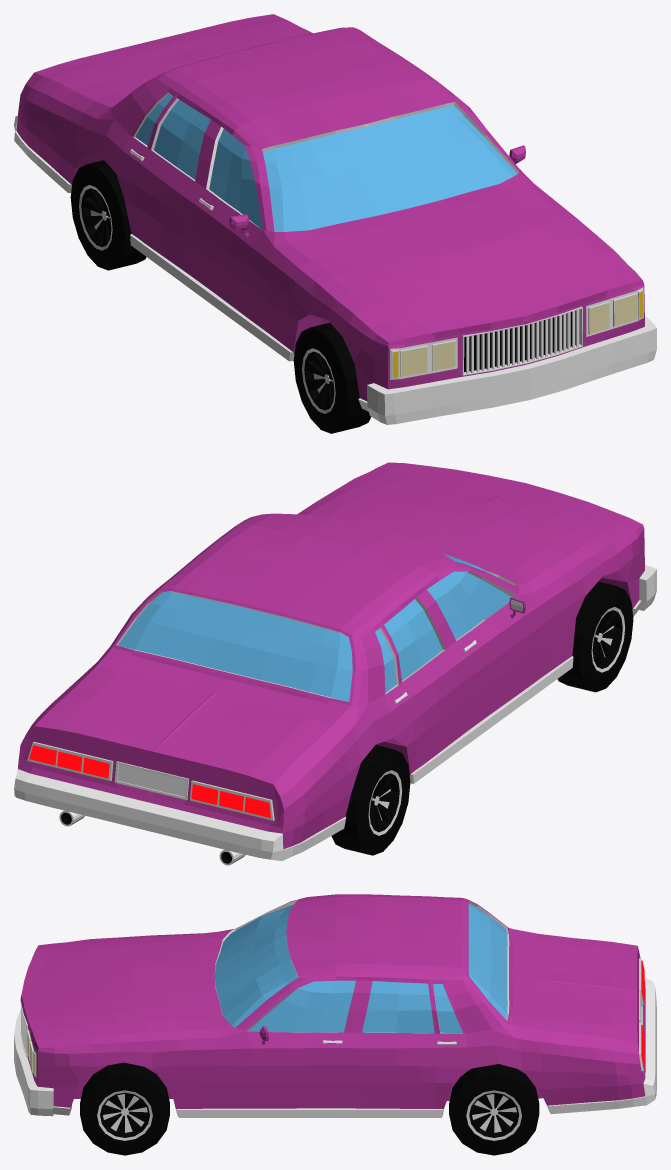
File: ClassicCar.fbx
3 views of the same model, one above another, from view 1: azimuth 30°, elevation 25°; view 2: azimuth 150°, elevation 25°; view 3: azimuth 270°, elevation 25° (orthographic). The views are drawn at different scales.
Parts seen in each view (by area): view 1: Car, WheelFR, WheelBR; view 2: Car, WheelBR, WheelFR; view 3: Car, WheelFL, WheelBL.
Part boxes in pixels (x1,y1,x2,y2): Car: (14, 14, 656, 424); WheelFR: (293, 322, 370, 433); WheelBR: (70, 160, 146, 270); Car: (14, 462, 656, 865); WheelBR: (331, 745, 410, 855); WheelFR: (557, 581, 633, 692); Car: (14, 894, 656, 1117); WheelFL: (80, 1062, 169, 1155); WheelBL: (449, 1064, 539, 1155).
Size of the model in its own units: 264 by 176 by 603.
